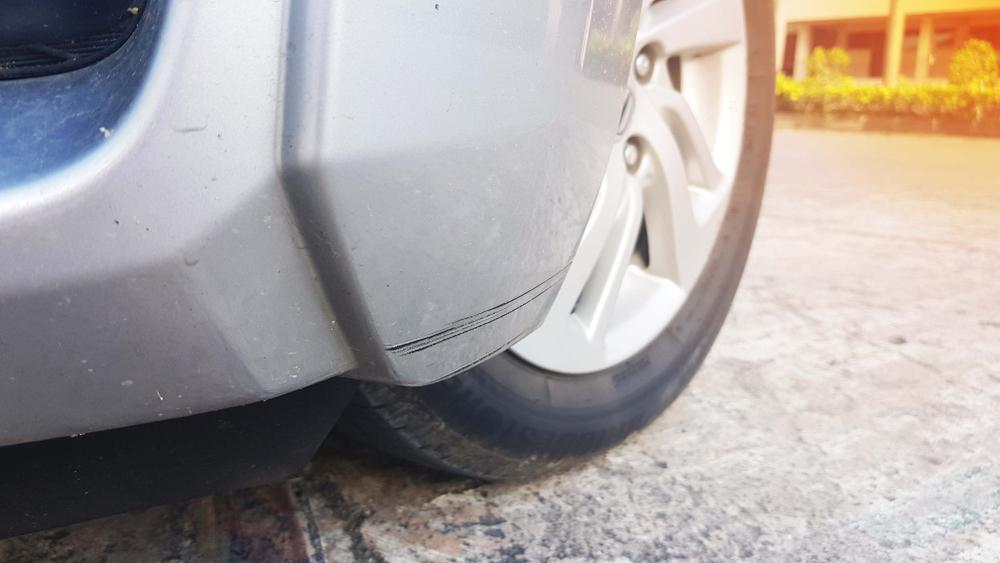scratch: (383, 256, 572, 368)
